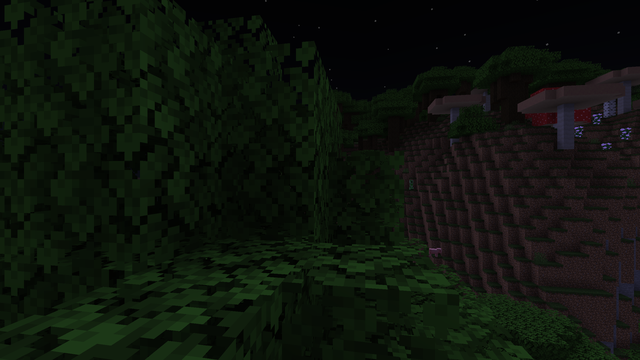cochons: (429, 247, 437, 256)
creepers: (409, 179, 413, 189)
